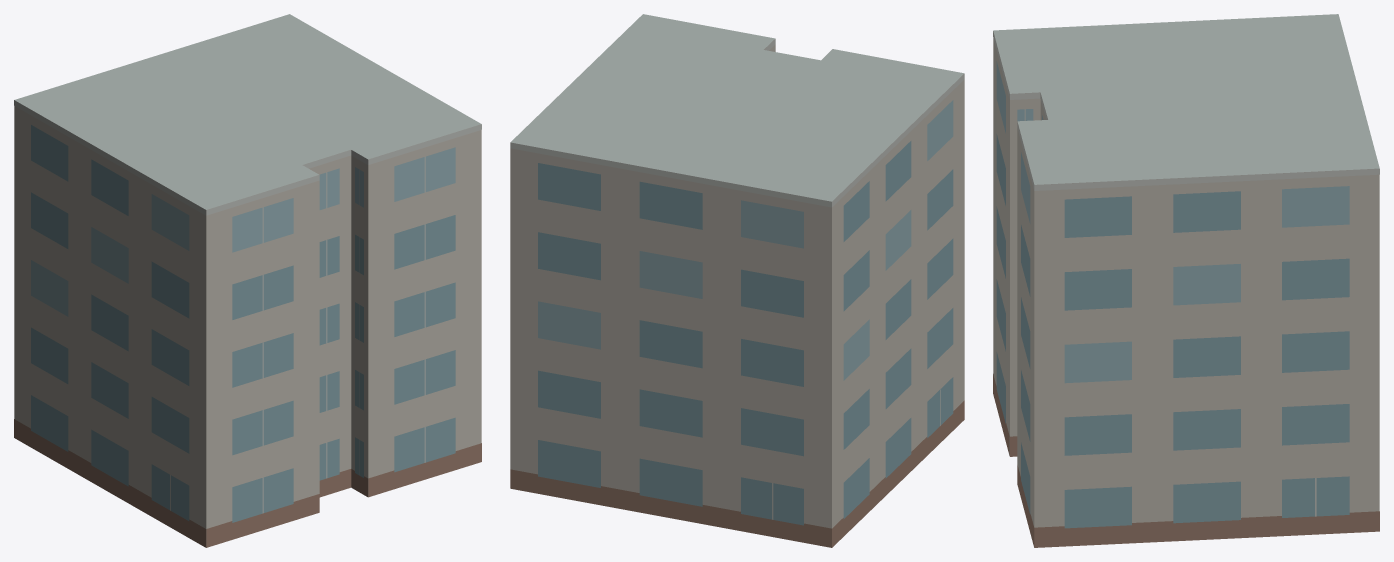
File: survey-upis-32973415.glb
3 views of the same model, side by side, from view 1: azimuth 30°, elevation 25°; view 2: azimuth 150°, elevation 25°; view 3: azimuth 270°, elevation 25° (orthographic). The views are drawn at different scales.
Visible parts, largest first — view 1: survey-upis-32973415.tmp; view 2: survey-upis-32973415.tmp; view 3: survey-upis-32973415.tmp.
Boxes of the visible parts, left/top/right/bottom form: survey-upis-32973415.tmp: left=14, top=14, right=481, bottom=547; survey-upis-32973415.tmp: left=510, top=14, right=964, bottom=547; survey-upis-32973415.tmp: left=993, top=14, right=1379, bottom=547.
Bounding box in the file's own units: 14.55 × 14.4 × 13.91.
